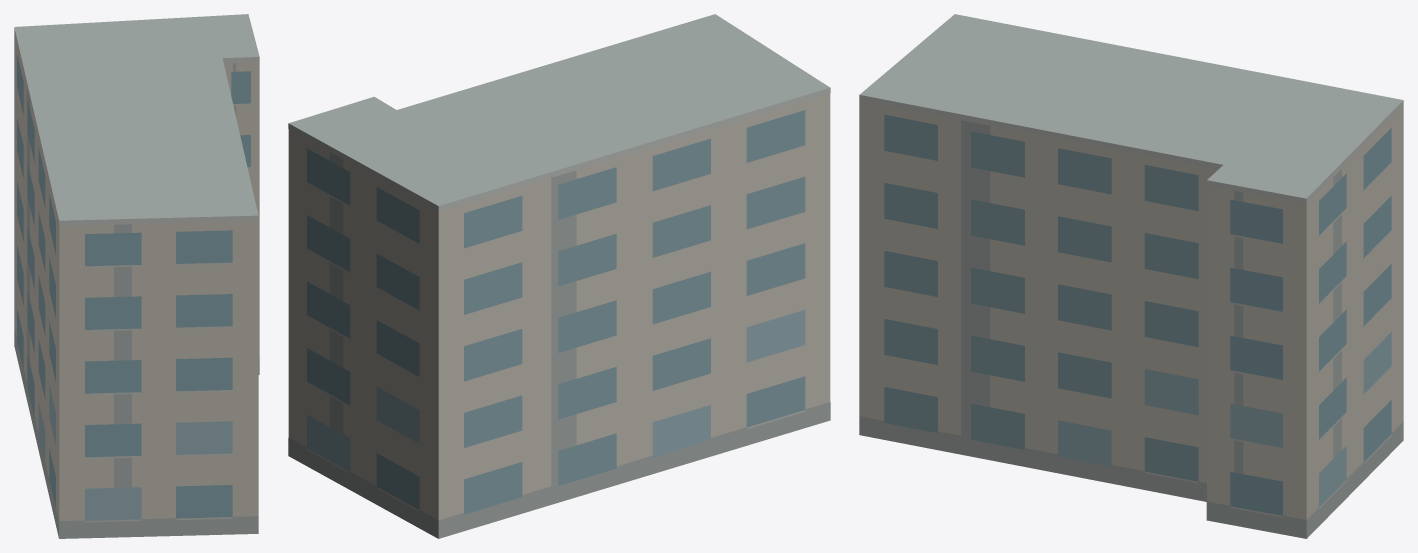
The model's file is survey-upis-32565158.glb.
3 views of the same model, side by side, from view 1: azimuth 30°, elevation 25°; view 2: azimuth 150°, elevation 25°; view 3: azimuth 270°, elevation 25° (orthographic). The views are drawn at different scales.
Visible parts, largest first — view 1: survey-upis-32565158.tmp; view 2: survey-upis-32565158.tmp; view 3: survey-upis-32565158.tmp.
Part boxes in pixels (x1,y1,x2,y2): survey-upis-32565158.tmp: (14, 14, 259, 538); survey-upis-32565158.tmp: (288, 14, 830, 538); survey-upis-32565158.tmp: (859, 14, 1403, 538).
Bounding box in the file's own units: 16.47 × 14.15 × 20.52.
